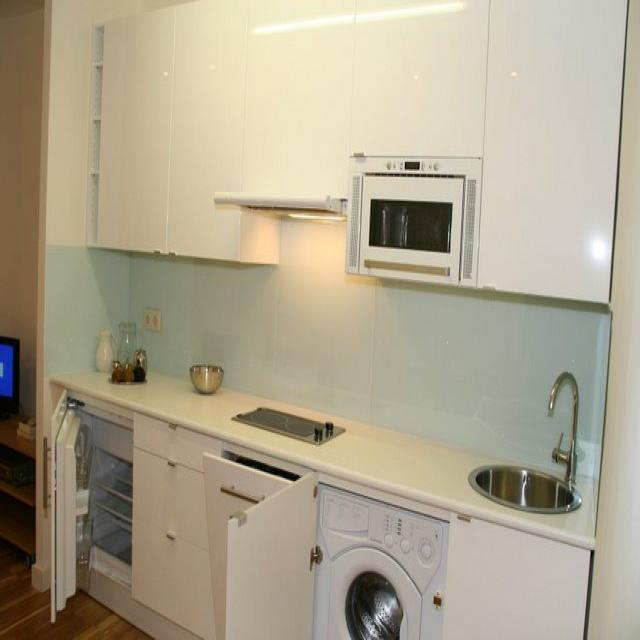Microwave oven: (346, 156, 482, 285)
Sink: (468, 463, 581, 513), (235, 406, 344, 444)
bowl -X: (188, 361, 222, 393)
cabinet door: (96, 6, 174, 252)
computer screen: (1, 336, 19, 421)
faucet handle: (548, 370, 577, 483)
washer: (310, 480, 447, 639)
